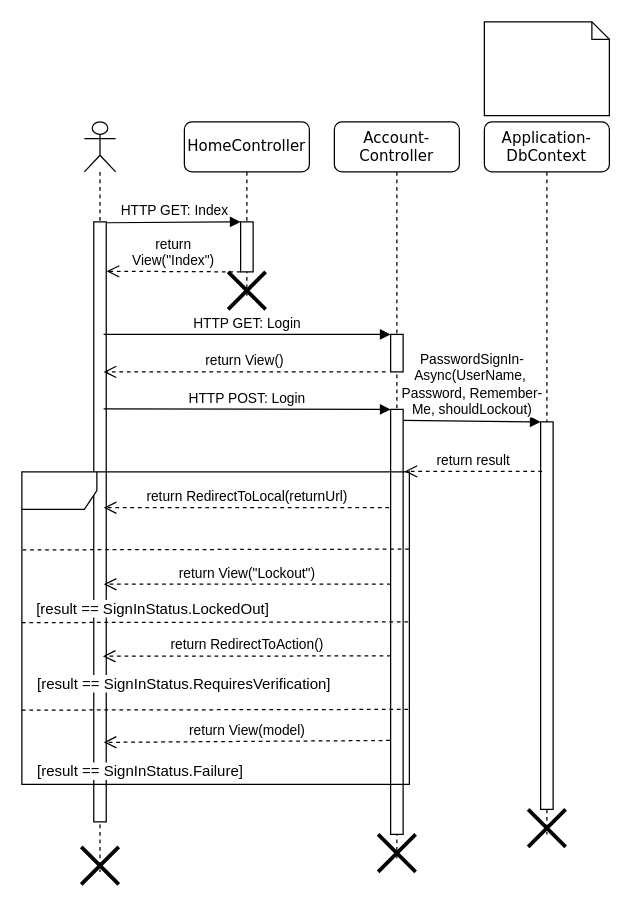
Image size: 631x908. Some labels were removed from this diagram. Each missing label, with the centre of its shape:
alt: (215,627)
Application-DbContext opgeroepen via Entity Framework: (546,68)
